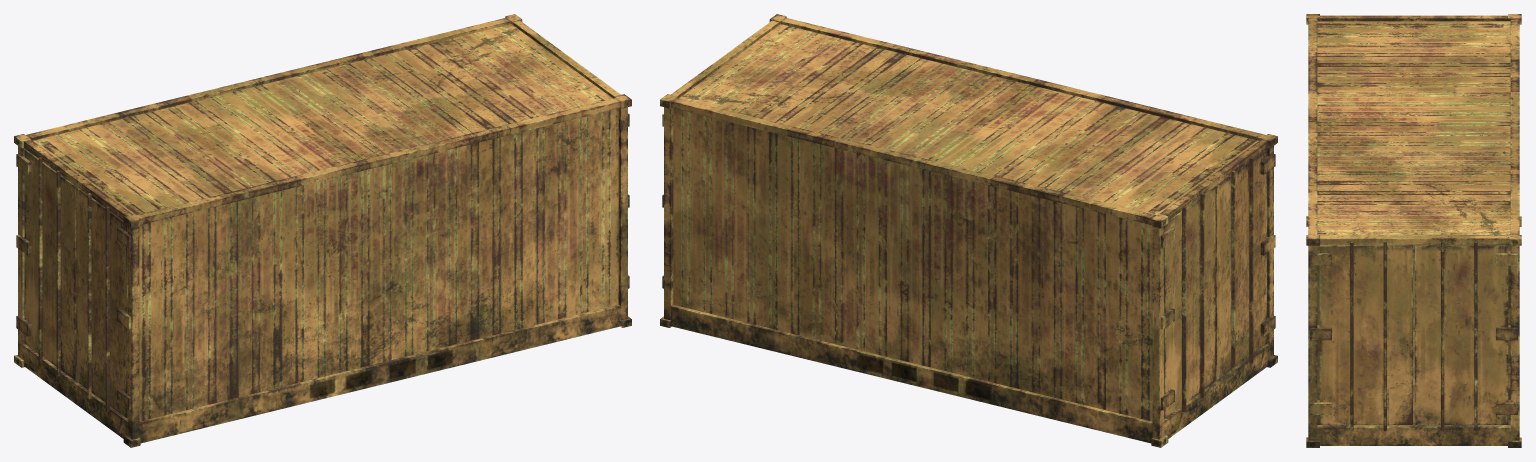
File: Component_ContainerYellow_grp.fbx
3 renders of one model, left to right at view 1: azimuth 30°, elevation 25°; view 2: azimuth 150°, elevation 25°; view 3: azimuth 270°, elevation 25°, orthographic. The views are drawn at different scales.
Parts seen in each view (by area): view 1: containerYellow_containerYellow; view 2: containerYellow_containerYellow; view 3: containerYellow_containerYellow.
Boxes of the visible parts, x1=… form: containerYellow_containerYellow: x1=14, y1=14, x2=631, y2=447; containerYellow_containerYellow: x1=660, y1=14, x2=1277, y2=447; containerYellow_containerYellow: x1=1306, y1=14, x2=1521, y2=447.
Size of the model in its own units: 606 by 262 by 245.
